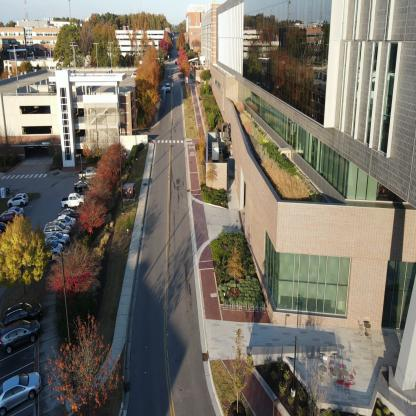EB-1: (181, 1, 201, 66)
Fitts- Woolard: (200, 5, 416, 364)
